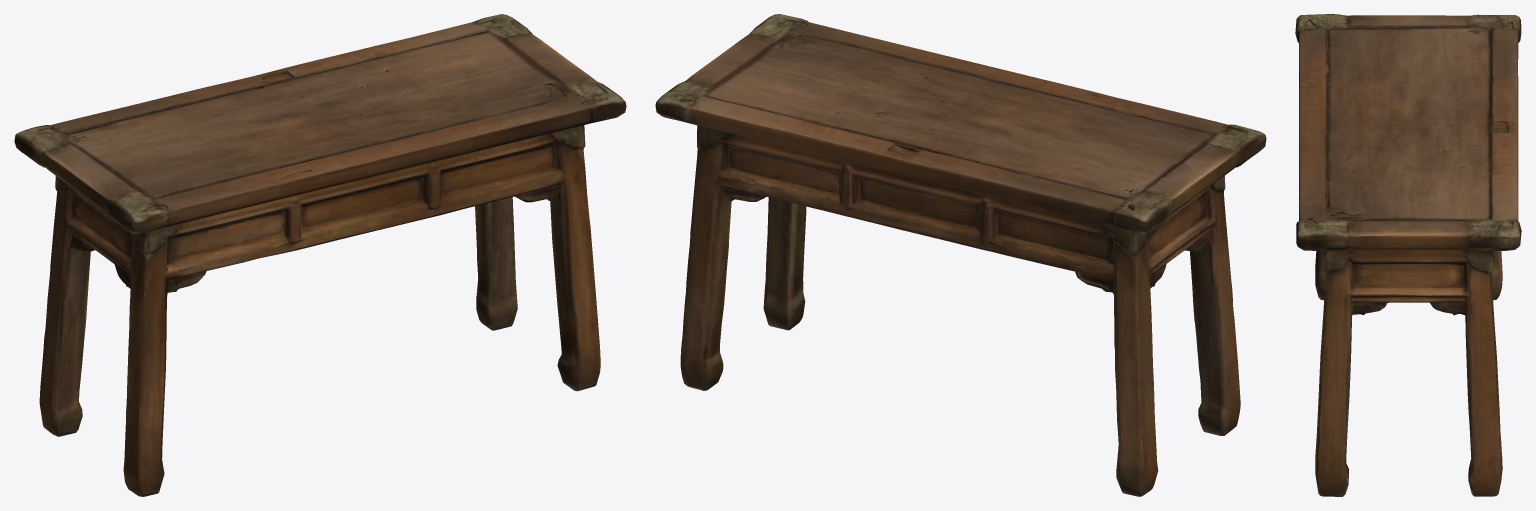
Rendered from PROP-006.glb.
The picture shows the model from 3 angles, left to right: view 1: azimuth 30°, elevation 25°; view 2: azimuth 150°, elevation 25°; view 3: azimuth 270°, elevation 25°; orthographic projection. The views are drawn at different scales.
Parts seen in each view (by area): view 1: world; view 2: world; view 3: world.
Part boxes in pixels (bbox=[...]): world: bbox=[14, 14, 626, 496]; world: bbox=[655, 14, 1266, 496]; world: bbox=[1295, 14, 1521, 496].
Bounding box in the file's own units: 1.8 × 1.02 × 0.7696.
1 material, 1 textured.
